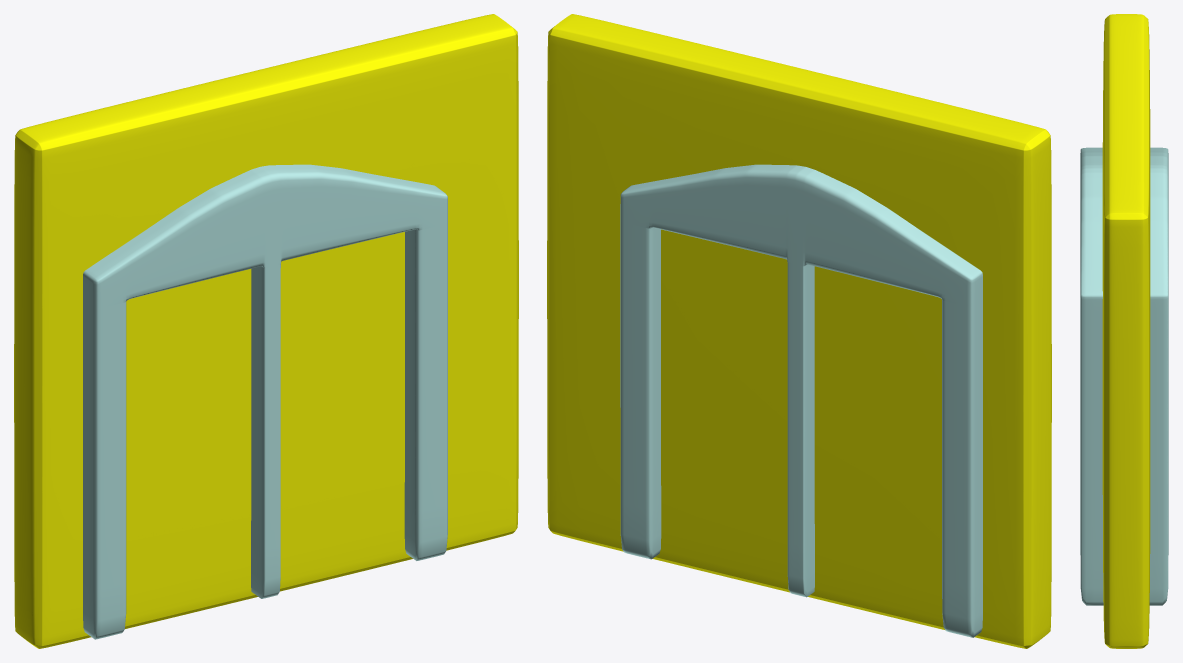
The picture shows the model from 3 angles, left to right: view 1: azimuth 30°, elevation 25°; view 2: azimuth 150°, elevation 25°; view 3: azimuth 270°, elevation 25°; orthographic projection. The views are drawn at different scales.
Parts seen in each view (by area): view 1: polySurface1308; view 2: polySurface1308; view 3: polySurface1308.
Part boxes in pixels (x1=…): polySurface1308: x1=14, y1=14, x2=518, y2=648; polySurface1308: x1=547, y1=14, x2=1051, y2=648; polySurface1308: x1=1080, y1=14, x2=1168, y2=648.
Size of the model in its own units: 0.9995 by 0.9995 by 0.182.
